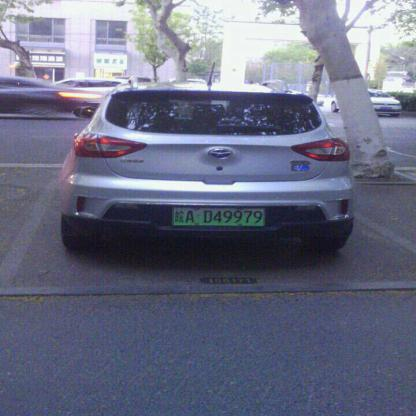lp: (172, 206, 264, 226)
